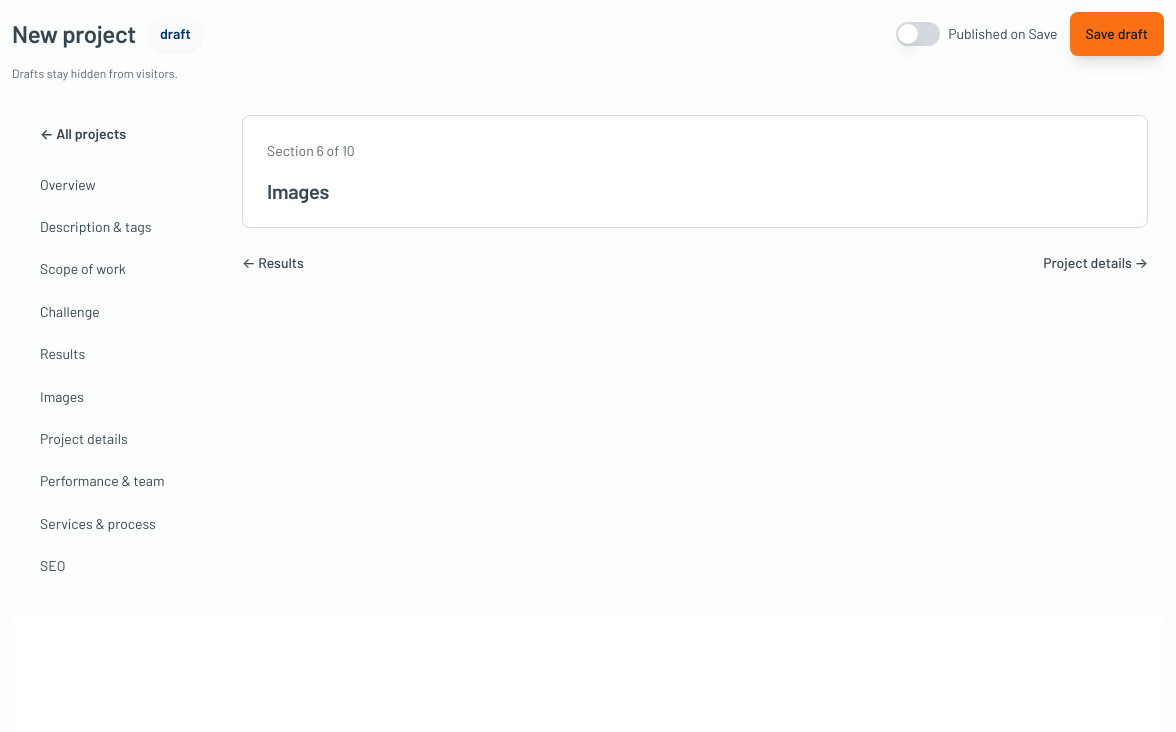
Test: safe project-editor saves › blocks saving from another screen when a hidden required field is empty and returns to Overview
The image size is (1176, 732).
Check: the field labelled "Project title" is not shown
Click the button "Save draft". click: (1117,34)
box: 1070,12 -> 1164,56
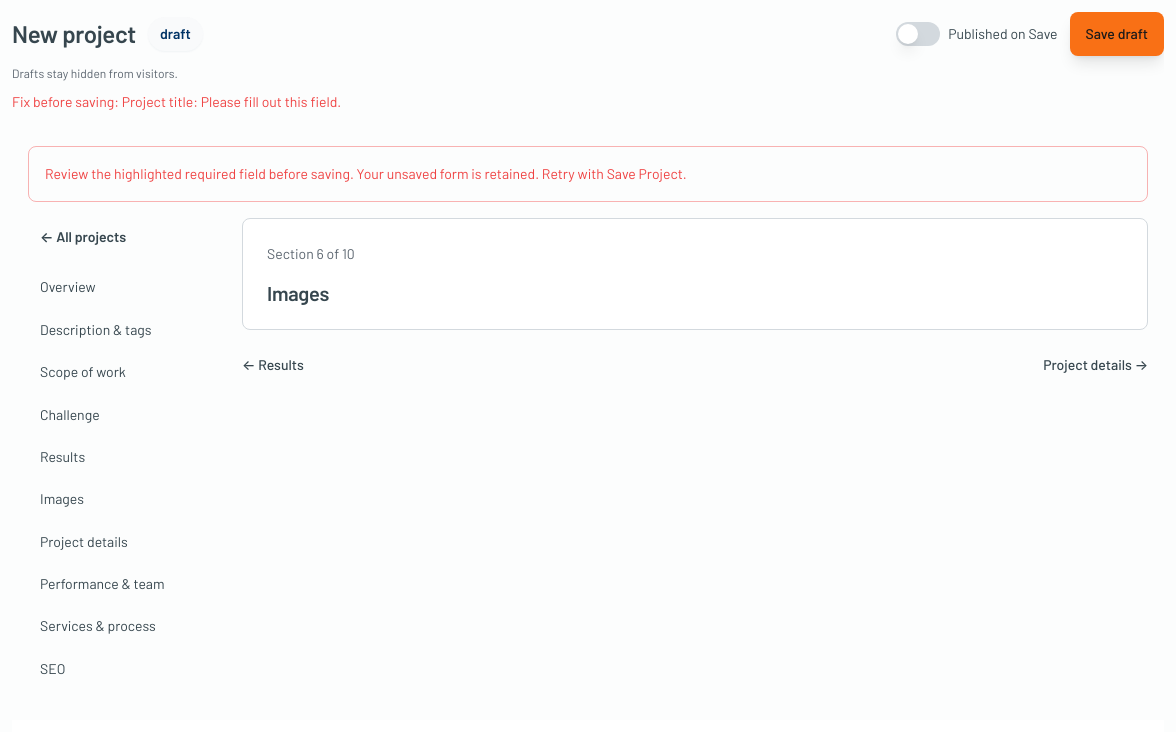
Check: the text "Review the highlighted required field" is shown, box 45,165 -> 354,182
